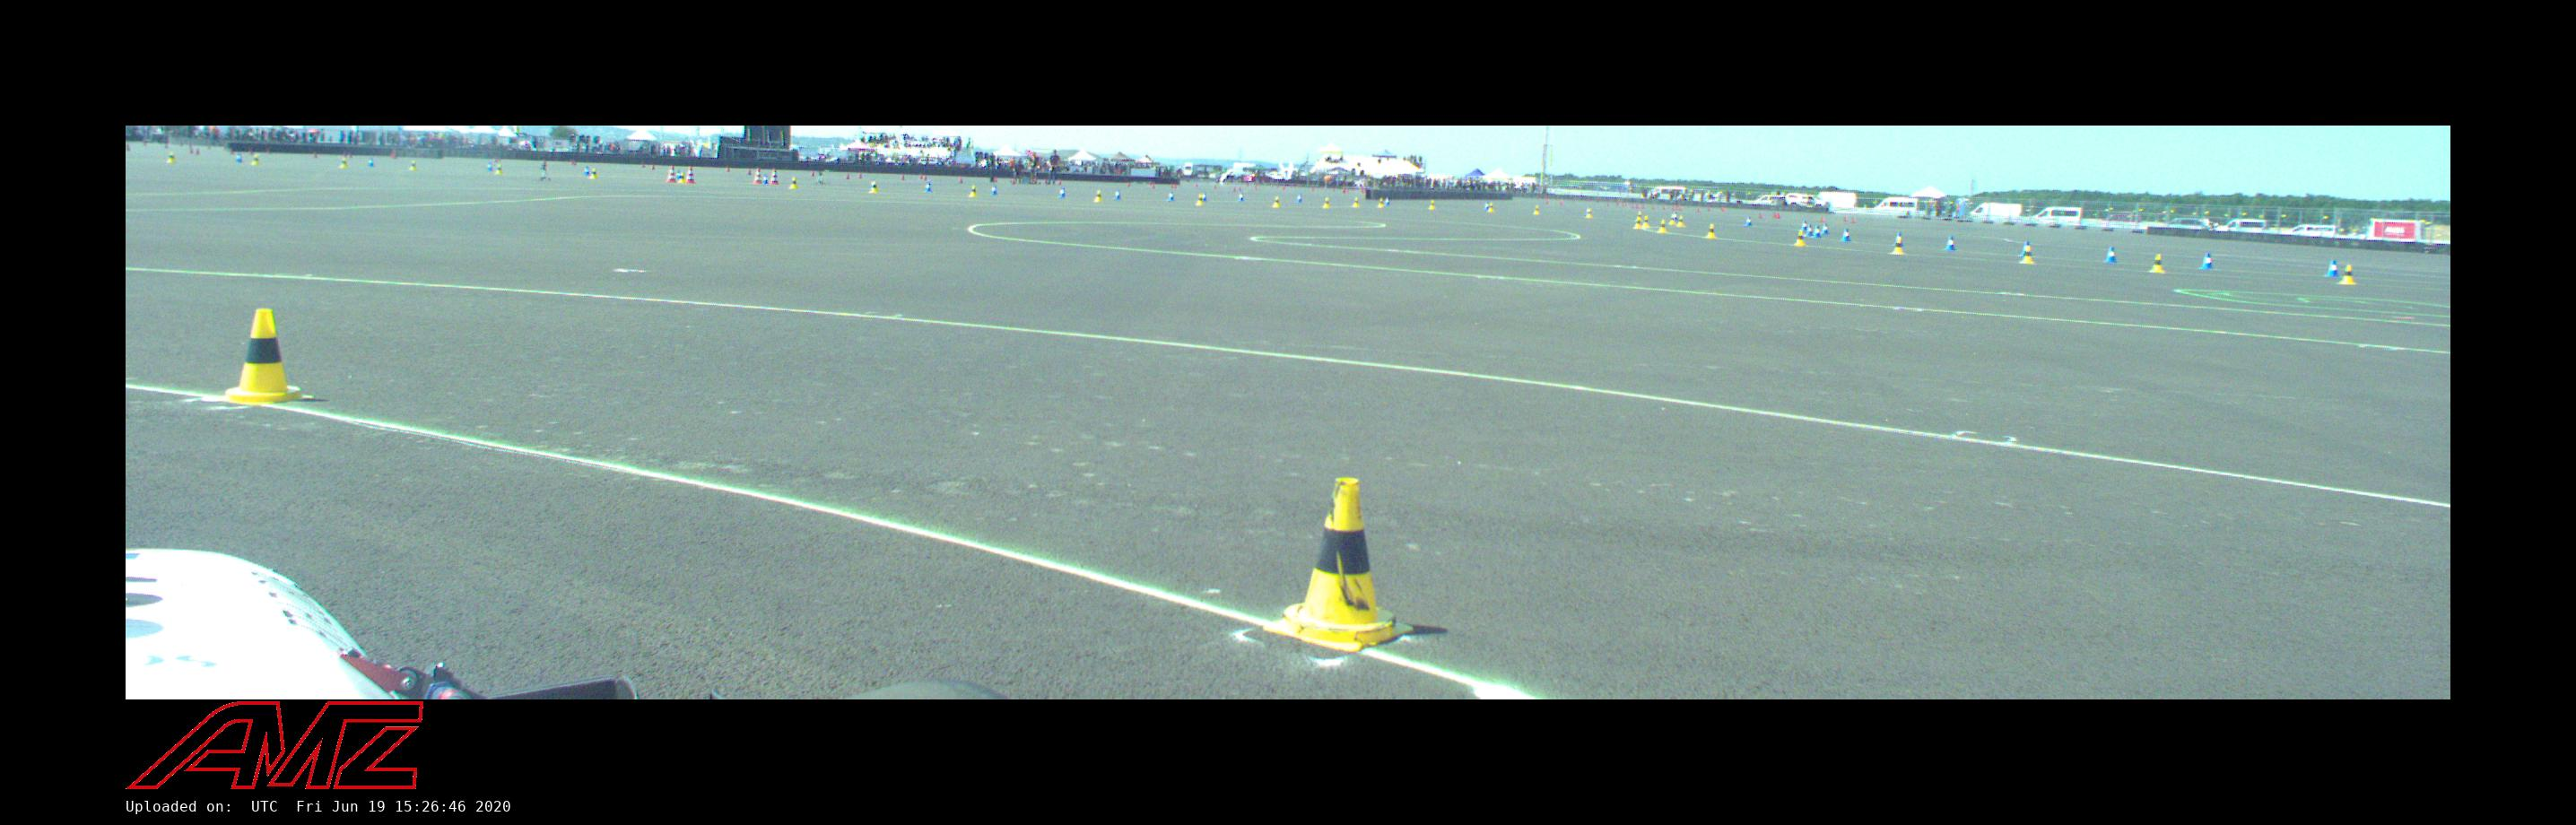blue_cone: (2103, 247, 2118, 263), (2200, 253, 2215, 270), (2325, 260, 2339, 276), (2021, 240, 2032, 256), (1945, 237, 1957, 251), (1894, 230, 1904, 247), (1842, 228, 1851, 242), (925, 181, 933, 192), (1060, 187, 1066, 197), (1114, 189, 1120, 199), (1168, 191, 1175, 200), (1814, 227, 1820, 237), (1745, 217, 1751, 227), (1822, 224, 1828, 233), (486, 163, 493, 171), (1807, 227, 1812, 237), (368, 159, 375, 166), (992, 186, 997, 194), (1802, 222, 1807, 230), (1385, 199, 1390, 205), (1296, 196, 1301, 202), (1240, 194, 1244, 200)
large_orange_cone: (667, 164, 677, 181), (769, 169, 779, 184), (687, 166, 695, 182), (754, 168, 762, 182)
yellow_cone: (1263, 478, 1415, 652), (222, 309, 315, 406), (2338, 263, 2356, 284), (2149, 253, 2164, 273), (2019, 245, 2034, 263), (1891, 237, 1904, 253), (1796, 230, 1804, 247), (1658, 220, 1666, 232), (1094, 191, 1102, 202), (1709, 224, 1715, 237), (1196, 194, 1204, 204), (969, 186, 978, 196), (168, 153, 176, 163), (251, 154, 260, 164), (1635, 217, 1641, 228), (1273, 196, 1280, 207), (790, 177, 797, 189), (871, 182, 877, 192), (1585, 209, 1592, 219), (1677, 217, 1684, 227), (496, 164, 503, 173), (591, 169, 598, 177), (1429, 200, 1436, 209), (1324, 197, 1329, 207), (1643, 217, 1648, 227), (342, 159, 348, 166), (1354, 199, 1359, 207), (1378, 199, 1383, 207), (411, 161, 416, 169), (1534, 205, 1539, 214), (1488, 204, 1493, 210)
